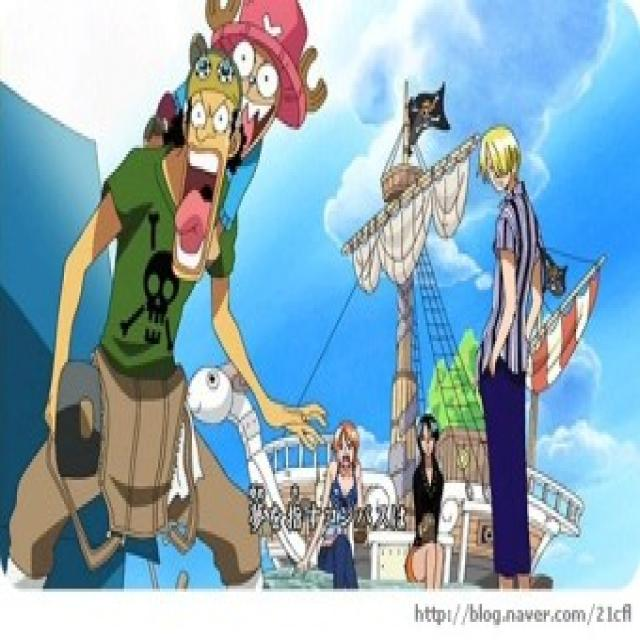Chyopa: (221, 0, 314, 167)
Nami: (329, 418, 362, 474)
NicoRobin: (404, 407, 448, 465)
Sangdi: (474, 125, 523, 199)
Usopp: (167, 54, 240, 288)
